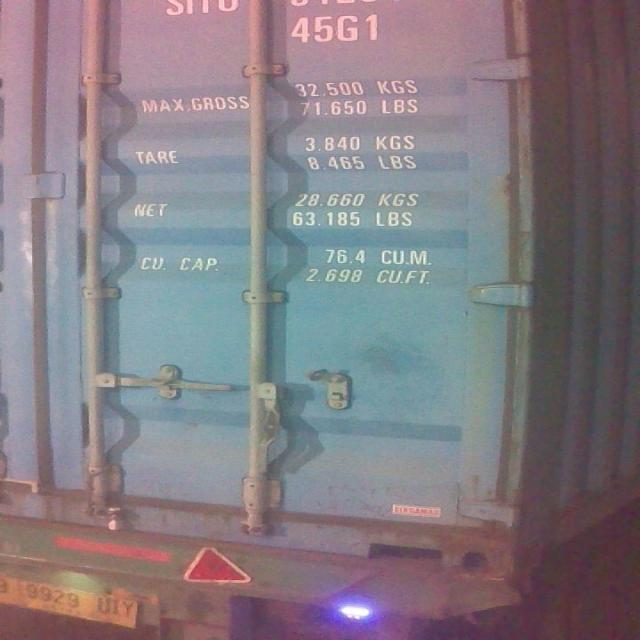seal: (104, 503, 125, 530)
